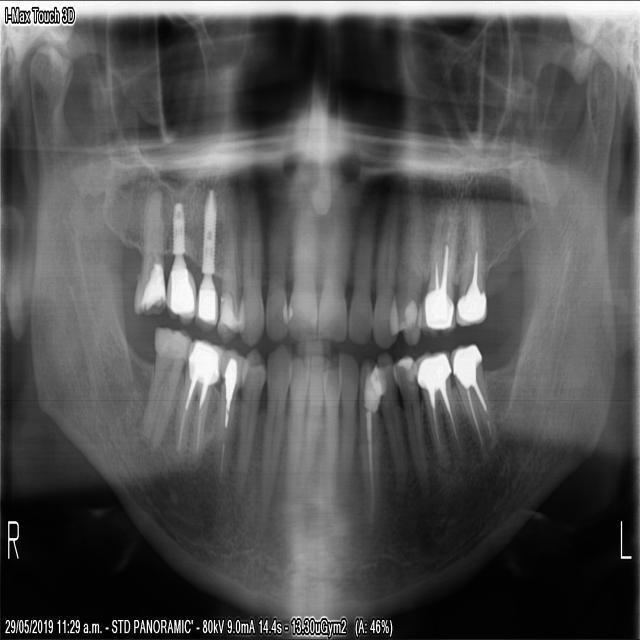LCD: (358, 354, 380, 515)
LCU: (372, 192, 400, 351)
LID: (336, 348, 360, 481), (321, 352, 337, 478)
LIU: (316, 205, 352, 349), (346, 207, 376, 345)
LMD: (417, 347, 468, 472), (450, 344, 500, 454)
LMU: (420, 195, 461, 336), (455, 193, 488, 333)
LPMD: (375, 348, 414, 494), (394, 351, 430, 497)
LPMU: (397, 198, 429, 349)
RCD: (260, 340, 288, 510)
RCU: (237, 200, 263, 349)
RID: (283, 350, 309, 504), (297, 348, 322, 482)
RIU: (286, 195, 319, 339), (262, 200, 291, 346)
RMD: (134, 320, 189, 455), (173, 335, 222, 471)
RMU: (130, 182, 164, 318), (163, 194, 196, 326)
RPMD: (233, 351, 266, 500), (211, 344, 242, 477)
RPMU: (213, 186, 240, 345), (195, 190, 217, 330)
